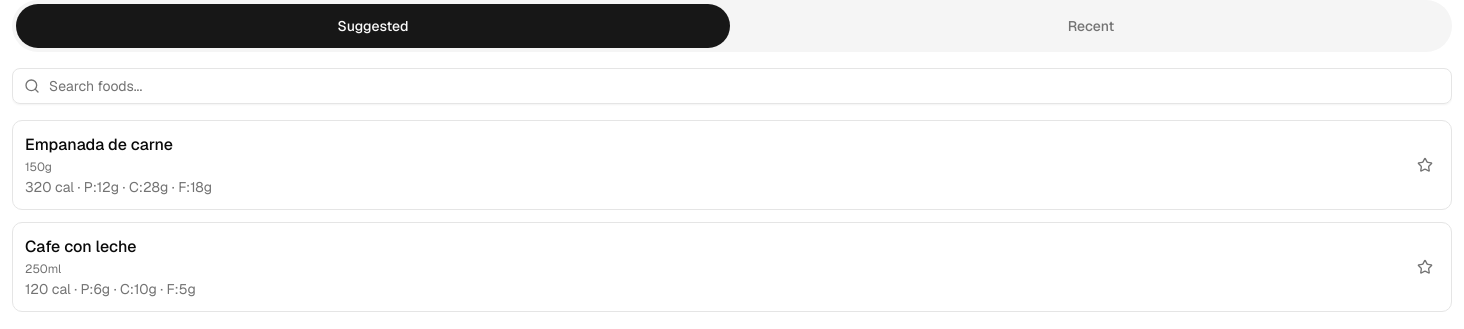
it: QuickSelect › search › returns to tab content when search input is cleared
Check: the text "Empanada de carne" is shown, box [25, 134, 173, 155]
Check: the text "Cafe con leche" is shown, box [25, 236, 136, 257]
Type search query
Type "emp" into the field with placeholder "Search foods..." at x=732, y=86, box [12, 68, 1452, 104]
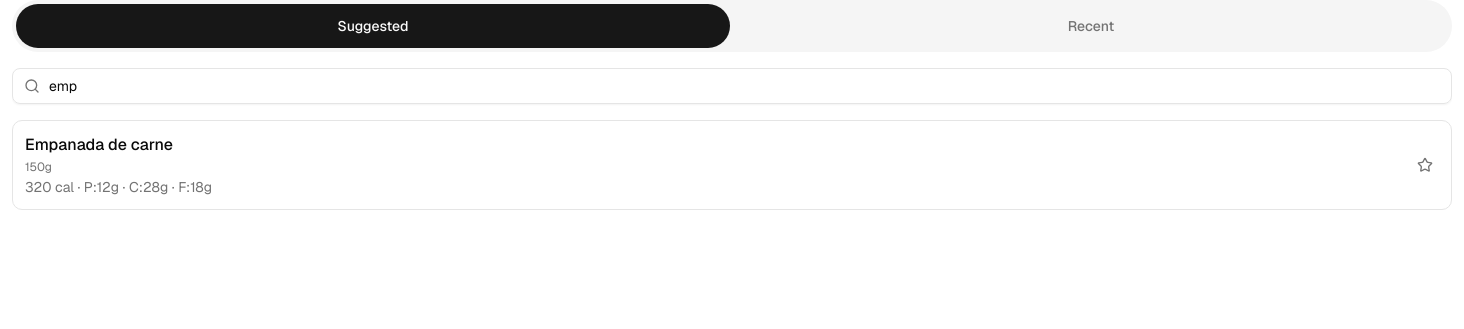
Clear search
Clear the field with placeholder "Search foods..." at x=732, y=86, box [12, 68, 1452, 104]
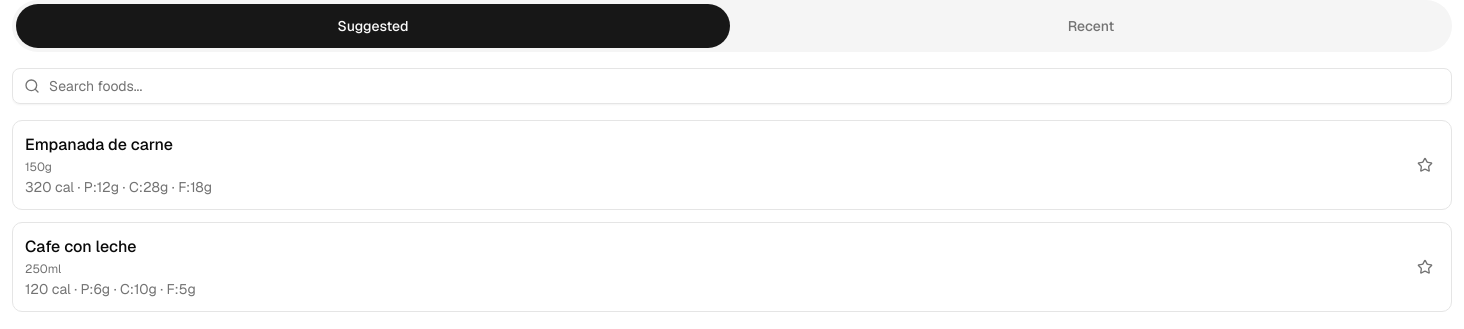
Check: the text "Empanada de carne" is shown, box [25, 134, 173, 155]
Check: the text "Cafe con leche" is shown, box [25, 236, 136, 257]
